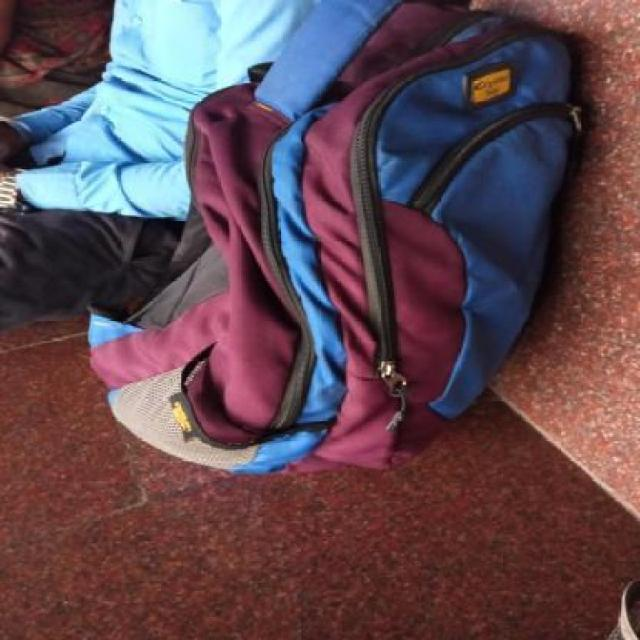backpack: (77, 0, 603, 488)
